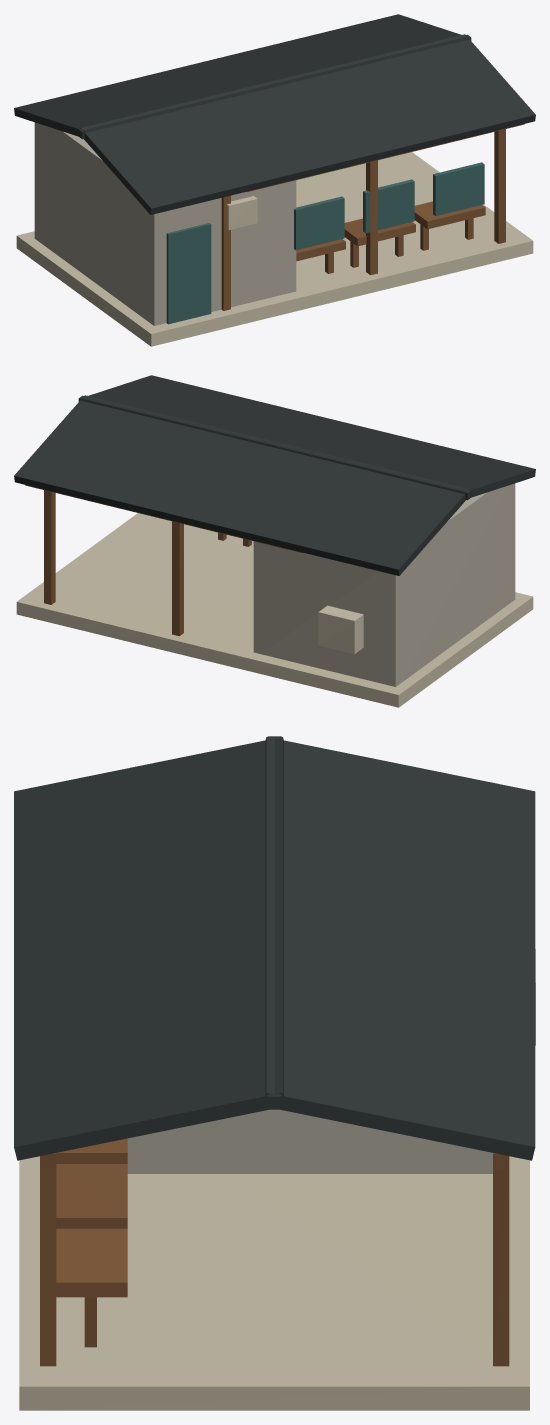
File: Seed-breeding-center.glb
The picture shows the model from 3 angles, top to bottom: view 1: azimuth 30°, elevation 25°; view 2: azimuth 150°, elevation 25°; view 3: azimuth 270°, elevation 25°; orthographic projection. The views are drawn at different scales.
Visible parts, largest first — view 1: seed-breeding-center-static-seed-breeding-center-charcoal-ro, seed-breeding-center-static-seed-breeding-center-pale-masonr, seed-breeding-center-static-seed-breeding-center-cream-found, seed-breeding-center-static-seed-breeding-center-muted-teal-, seed-breeding-center-static-seed-breeding-center-warm-fixed-; view 2: seed-breeding-center-static-seed-breeding-center-charcoal-ro, seed-breeding-center-static-seed-breeding-center-cream-found, seed-breeding-center-static-seed-breeding-center-pale-masonr, seed-breeding-center-static-seed-breeding-center-warm-fixed-; view 3: seed-breeding-center-static-seed-breeding-center-charcoal-ro, seed-breeding-center-static-seed-breeding-center-cream-found, seed-breeding-center-static-seed-breeding-center-warm-fixed-, seed-breeding-center-static-seed-breeding-center-pale-masonr.
Boxes of the visible parts, x1,y1,x2,y2 form: seed-breeding-center-static-seed-breeding-center-charcoal-ro: (14, 14, 535, 214); seed-breeding-center-static-seed-breeding-center-pale-masonr: (34, 122, 296, 325); seed-breeding-center-static-seed-breeding-center-cream-found: (16, 152, 533, 346); seed-breeding-center-static-seed-breeding-center-muted-teal-: (166, 162, 484, 324); seed-breeding-center-static-seed-breeding-center-warm-fixed-: (221, 124, 524, 310); seed-breeding-center-static-seed-breeding-center-charcoal-ro: (14, 375, 535, 575); seed-breeding-center-static-seed-breeding-center-cream-found: (16, 513, 533, 707); seed-breeding-center-static-seed-breeding-center-pale-masonr: (253, 483, 515, 686); seed-breeding-center-static-seed-breeding-center-warm-fixed-: (25, 485, 302, 636); seed-breeding-center-static-seed-breeding-center-charcoal-ro: (14, 736, 535, 1160); seed-breeding-center-static-seed-breeding-center-cream-found: (19, 949, 535, 1410); seed-breeding-center-static-seed-breeding-center-warm-fixed-: (40, 1138, 509, 1366); seed-breeding-center-static-seed-breeding-center-pale-masonr: (127, 1109, 492, 1173).
Size of the model in its own units: 8.35 by 3.45 by 5.11.
